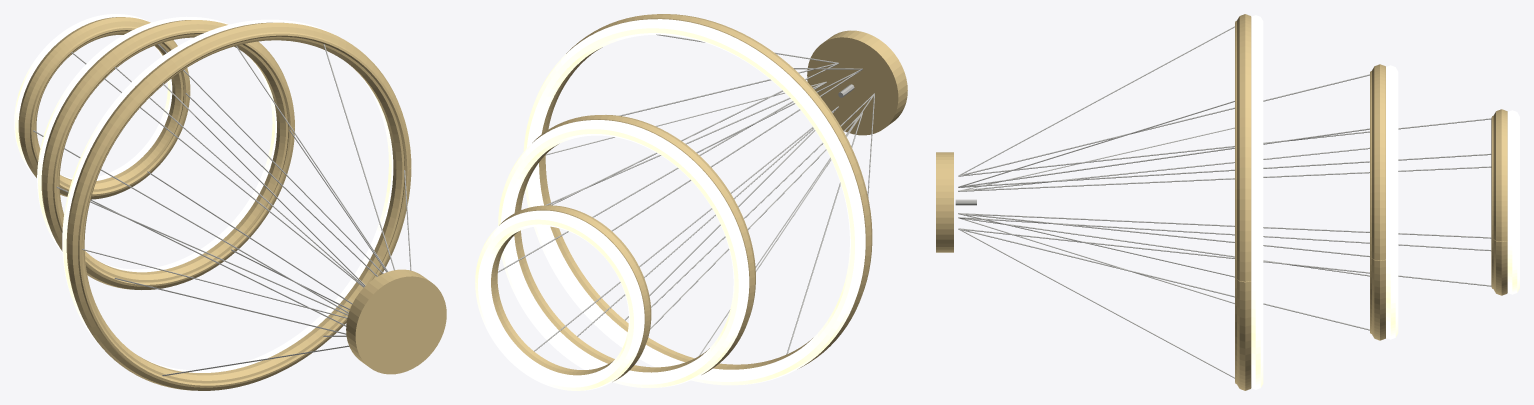
Rendered from harley.glb.
The picture shows the model from 3 angles, left to right: view 1: azimuth 30°, elevation 25°; view 2: azimuth 150°, elevation 25°; view 3: azimuth 270°, elevation 25°; orthographic projection. The views are drawn at different scales.
Visible parts, largest first — view 1: Ring_1_Metal, Ring_2_Metal, Ceiling_Canopy, Ring_3_Metal, Ring_1_Trim, Ring_1_LED, Ring_2_Trim, Ring_2_LED, Ring_3_LED, Ring_3_Trim, suspension_3_3, suspension_3_2 (+11 smaller); view 2: Ring_1_LED, Ring_2_LED, Ring_3_LED, Ceiling_Canopy, Ring_1_Metal, Ring_2_Metal, Ring_3_Metal, suspension_3_5, suspension_3_0, suspension_3_1, suspension_2_5, suspension_3_2 (+5 smaller); view 3: Ring_1_Metal, Ring_1_LED, Ring_2_Metal, Ring_2_LED, Ring_3_Metal, Ring_3_LED, Ceiling_Canopy, suspension_3_3, suspension_3_1, suspension_3_0, suspension_3_5, suspension_3_4 (+13 smaller).
Boxes of the visible parts, x1,y1,x2,y2 form: Ring_1_Metal: [66, 22, 411, 390]; Ring_2_Metal: [41, 20, 294, 289]; Ceiling_Canopy: [346, 269, 446, 374]; Ring_3_Metal: [18, 17, 190, 199]; Ring_1_Trim: [78, 32, 408, 387]; Ring_1_LED: [62, 19, 393, 372]; Ring_2_Trim: [52, 29, 292, 286]; Ring_2_LED: [37, 16, 276, 272]; Ring_3_LED: [14, 14, 172, 180]; Ring_3_Trim: [30, 26, 187, 196]; suspension_3_3: [33, 130, 348, 313]; suspension_3_2: [71, 52, 363, 287]; Ring_1_LED: [523, 19, 865, 385]; Ring_2_LED: [498, 120, 749, 388]; Ring_3_LED: [475, 210, 644, 390]; Ceiling_Canopy: [807, 30, 907, 135]; Ring_1_Metal: [539, 14, 872, 369]; Ring_2_Metal: [514, 115, 755, 374]; Ring_3_Metal: [491, 205, 651, 381]; suspension_3_5: [534, 106, 838, 351]; suspension_3_0: [498, 82, 826, 272]; suspension_3_1: [550, 63, 838, 205]; suspension_2_5: [577, 110, 835, 336]; suspension_3_2: [611, 70, 861, 231]; Ring_1_Metal: [1237, 14, 1251, 390]; Ring_1_LED: [1251, 15, 1263, 389]; Ring_2_Metal: [1372, 64, 1385, 340]; Ring_2_LED: [1386, 65, 1398, 339]; Ring_3_Metal: [1493, 109, 1507, 295]; Ring_3_LED: [1507, 110, 1519, 294]; Ceiling_Canopy: [936, 152, 953, 252]; suspension_3_3: [958, 166, 1491, 191]; suspension_3_1: [959, 153, 1491, 187]; suspension_3_0: [960, 213, 1491, 238]; suspension_3_5: [959, 228, 1491, 286]; suspension_3_4: [958, 217, 1491, 250].
Bounding box in the file's own units: 1.43 × 1.43 × 2.21.
